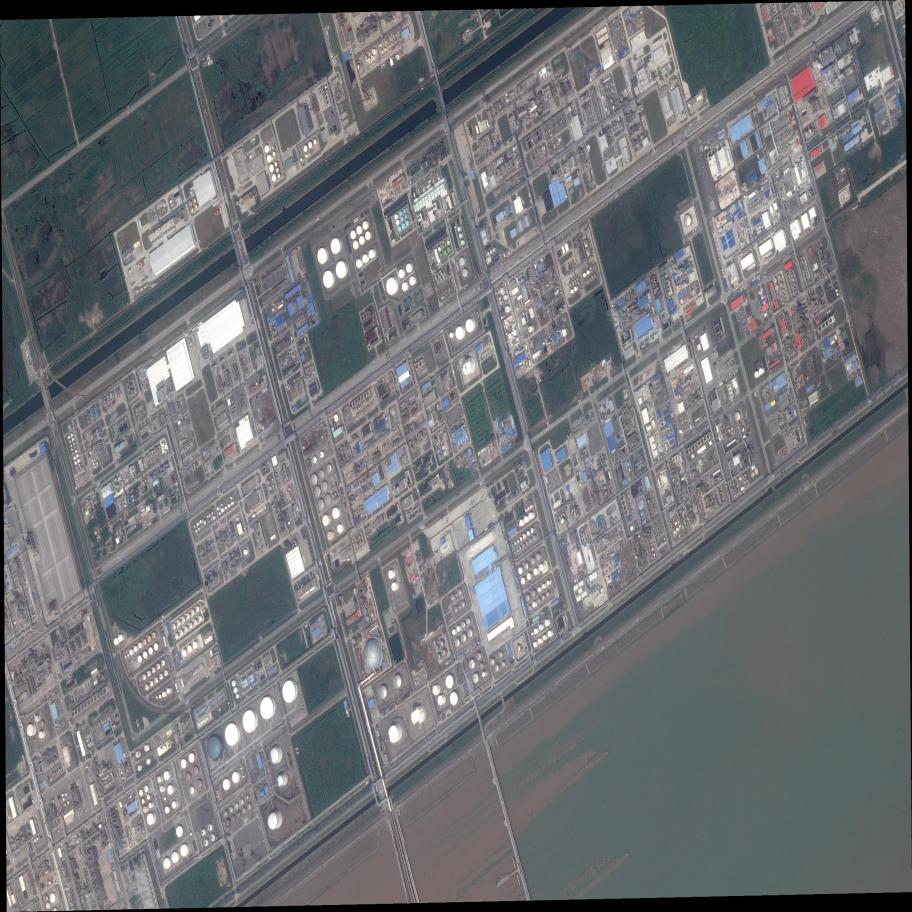storage-tank: (363, 639, 382, 671), (207, 736, 221, 760), (260, 697, 273, 720), (243, 710, 256, 733), (225, 723, 238, 746), (282, 681, 295, 703), (336, 261, 346, 279), (388, 726, 398, 744), (386, 278, 396, 295), (323, 271, 333, 288), (411, 708, 421, 725), (268, 814, 278, 830), (317, 248, 327, 264), (462, 360, 472, 376), (270, 748, 279, 765), (331, 238, 340, 254), (445, 675, 454, 689), (393, 675, 401, 689), (379, 686, 387, 700), (465, 319, 473, 333), (450, 692, 458, 706), (456, 326, 463, 340), (276, 776, 284, 788), (180, 845, 188, 857), (232, 772, 239, 784), (324, 494, 331, 506), (322, 515, 329, 527), (147, 814, 154, 826), (176, 826, 183, 838), (684, 215, 691, 227), (314, 486, 321, 497), (321, 481, 328, 492), (317, 499, 324, 510), (332, 508, 339, 519), (27, 725, 34, 736), (171, 852, 178, 863), (163, 858, 170, 869), (223, 779, 229, 791), (49, 893, 56, 903), (188, 753, 195, 763), (311, 474, 317, 485), (362, 254, 368, 264), (327, 531, 333, 541), (196, 780, 202, 790), (181, 759, 187, 769), (167, 785, 173, 795), (365, 231, 371, 241), (469, 659, 475, 669), (734, 412, 740, 422), (326, 464, 332, 473), (318, 470, 324, 479), (188, 786, 194, 795), (473, 674, 479, 683), (409, 277, 415, 286), (467, 629, 473, 638), (356, 226, 362, 235), (337, 524, 342, 534), (193, 766, 198, 776), (164, 771, 169, 781), (353, 240, 358, 250), (402, 282, 407, 292), (399, 269, 404, 279), (438, 695, 443, 705), (433, 686, 438, 696), (350, 231, 356, 239), (269, 164, 274, 173), (214, 573, 219, 582), (334, 414, 339, 423), (369, 250, 374, 259), (356, 259, 361, 268), (391, 583, 396, 592), (359, 236, 364, 245), (185, 773, 190, 782), (459, 257, 464, 266), (406, 264, 411, 273), (461, 634, 466, 643), (363, 221, 368, 230), (388, 571, 393, 579), (144, 785, 149, 793), (143, 651, 148, 659), (528, 512, 533, 520), (476, 653, 481, 661), (462, 269, 467, 277), (455, 639, 460, 647), (525, 595, 530, 603), (530, 558, 535, 566), (308, 142, 313, 149), (135, 751, 140, 758), (154, 644, 159, 651), (148, 648, 153, 655), (406, 298, 411, 305), (533, 568, 538, 575), (267, 155, 271, 163), (265, 145, 269, 153), (210, 576, 214, 584), (272, 174, 276, 182), (208, 824, 212, 832), (139, 789, 143, 797), (144, 744, 148, 752), (39, 731, 43, 739), (138, 655, 142, 663), (118, 634, 122, 642), (172, 801, 176, 809), (165, 806, 169, 814), (516, 645, 520, 653), (519, 519, 523, 527), (531, 590, 535, 598), (210, 835, 215, 841), (320, 451, 324, 458), (313, 456, 317, 463), (233, 687, 237, 694), (240, 798, 244, 805), (225, 820, 229, 827), (205, 580, 209, 587), (304, 145, 308, 152), (363, 608, 367, 615), (365, 615, 369, 622), (143, 806, 147, 813), (146, 758, 150, 765), (148, 802, 152, 809), (182, 650, 186, 657), (152, 632, 156, 639), (204, 839, 208, 846), (188, 646, 192, 653), (193, 642, 197, 649), (114, 638, 118, 645), (157, 776, 161, 783), (547, 631, 551, 638), (545, 619, 549, 626), (775, 285, 779, 292), (754, 371, 758, 378), (524, 516, 528, 523), (495, 665, 499, 672), (490, 659, 494, 666), (402, 301, 406, 308), (449, 332, 453, 339), (451, 594, 455, 601), (461, 601, 465, 608), (454, 606, 458, 613), (452, 629, 456, 636), (441, 650, 445, 657), (521, 578, 525, 585), (518, 568, 522, 575), (527, 573, 531, 580), (524, 563, 528, 570), (539, 564, 543, 571), (536, 554, 540, 561), (528, 326, 532, 333), (505, 306, 509, 313), (232, 681, 236, 687), (247, 804, 251, 810), (237, 811, 241, 817), (235, 803, 239, 809), (232, 815, 236, 821), (229, 807, 233, 813), (224, 811, 228, 817), (260, 543, 264, 549), (369, 605, 373, 611), (370, 611, 374, 617), (46, 903, 50, 909), (141, 798, 145, 804), (137, 765, 141, 771), (159, 674, 163, 680), (149, 681, 153, 687), (162, 692, 166, 698), (201, 830, 205, 836), (194, 204, 198, 210), (192, 198, 196, 204), (190, 208, 194, 214), (186, 613, 190, 619), (147, 636, 151, 642), (143, 639, 147, 645), (138, 643, 142, 649), (129, 650, 133, 656), (604, 491, 608, 497), (759, 369, 763, 375), (499, 652, 503, 658), (750, 472, 754, 478), (438, 454, 442, 460), (441, 445, 445, 451), (405, 220, 409, 226), (401, 223, 405, 229), (447, 247, 451, 253), (466, 618, 470, 624), (461, 622, 465, 628), (372, 49, 376, 55), (439, 641, 443, 647), (532, 602, 536, 608), (506, 97, 510, 103), (243, 807, 246, 814), (358, 591, 361, 598), (35, 715, 38, 722), (160, 786, 163, 793), (172, 624, 176, 629), (154, 678, 158, 683), (630, 526, 634, 531), (773, 278, 777, 283), (314, 139, 317, 145), (360, 598, 363, 604), (41, 721, 44, 727), (203, 520, 206, 526), (175, 633, 178, 639), (164, 670, 167, 676), (161, 660, 164, 666), (167, 688, 170, 694), (180, 630, 183, 636), (196, 606, 199, 612), (194, 619, 197, 625), (189, 623, 192, 629), (142, 674, 145, 680), (134, 646, 137, 652), (539, 625, 542, 631), (533, 642, 536, 648), (502, 661, 505, 667), (482, 672, 485, 678), (480, 663, 483, 669), (459, 589, 462, 595), (457, 226, 460, 232), (459, 233, 462, 239), (443, 250, 446, 256), (457, 626, 460, 632), (437, 653, 440, 659), (398, 226, 401, 232), (395, 214, 398, 220), (396, 54, 399, 60), (528, 605, 531, 611), (267, 480, 270, 485), (208, 23, 211, 28), (281, 466, 284, 471), (246, 795, 249, 800), (236, 694, 239, 699), (259, 538, 262, 543), (256, 524, 259, 529), (244, 550, 247, 555), (358, 515, 361, 520), (359, 540, 362, 545), (276, 168, 279, 173), (358, 535, 361, 540), (354, 537, 357, 542), (45, 896, 48, 901), (75, 709, 78, 714), (103, 688, 106, 693), (100, 691, 103, 696), (94, 695, 97, 700), (91, 698, 94, 703), (147, 795, 150, 800), (177, 620, 180, 625), (157, 664, 160, 669), (152, 668, 155, 673), (159, 694, 162, 699), (189, 201, 192, 206), (198, 616, 201, 621), (191, 610, 194, 615), (184, 627, 187, 632), (182, 617, 185, 622), (145, 685, 148, 690), (147, 671, 150, 676), (707, 434, 710, 439), (689, 447, 692, 452), (686, 449, 689, 454), (673, 530, 676, 535), (739, 477, 742, 482), (543, 635, 546, 640), (534, 629, 537, 634), (538, 639, 541, 644), (603, 486, 606, 491), (640, 135, 643, 140), (610, 99, 613, 104), (542, 595, 545, 600), (755, 470, 758, 475), (744, 473, 747, 478), (822, 323, 825, 328), (805, 131, 808, 136), (808, 129, 811, 134), (546, 592, 549, 597), (537, 598, 540, 603), (437, 448, 440, 453), (443, 451, 446, 456), (409, 440, 412, 445), (410, 446, 413, 451), (401, 217, 404, 222), (399, 211, 402, 216), (461, 240, 464, 245), (438, 247, 441, 252), (371, 56, 374, 61), (368, 58, 371, 63), (368, 52, 371, 57), (364, 55, 367, 60), (435, 645, 438, 650), (396, 220, 399, 225), (561, 519, 564, 524), (535, 112, 538, 117), (523, 534, 526, 539), (542, 584, 545, 589), (546, 580, 549, 585), (533, 536, 536, 541), (531, 528, 534, 533), (529, 538, 532, 543), (527, 531, 530, 536), (518, 280, 521, 285), (487, 252, 490, 257), (507, 162, 510, 167), (500, 168, 503, 173), (495, 171, 498, 176), (570, 289, 573, 294), (216, 210, 219, 214), (321, 435, 324, 439), (361, 316, 364, 320), (358, 397, 361, 401), (355, 399, 358, 403), (305, 154, 308, 158), (273, 152, 276, 156), (99, 824, 102, 828), (97, 694, 100, 698), (87, 701, 90, 705), (81, 705, 84, 709), (78, 708, 81, 712), (74, 461, 77, 465), (77, 459, 80, 463), (61, 793, 64, 797), (36, 837, 39, 841), (122, 842, 125, 846), (196, 522, 199, 526), (169, 200, 172, 204), (163, 746, 166, 750), (127, 385, 130, 389), (698, 441, 701, 445), (695, 443, 698, 447), (692, 445, 695, 449), (647, 500, 650, 504), (625, 511, 628, 515), (622, 501, 625, 505), (621, 496, 624, 500), (819, 326, 822, 330), (48, 881, 51, 885), (743, 481, 746, 485), (419, 362, 422, 366), (411, 396, 414, 400), (403, 209, 406, 213), (379, 43, 382, 47), (504, 295, 506, 301), (490, 250, 493, 254), (583, 273, 586, 277), (574, 287, 577, 291), (269, 486, 271, 491), (221, 508, 223, 513), (258, 531, 260, 536), (300, 157, 302, 162), (275, 162, 277, 167), (129, 390, 131, 395), (612, 105, 614, 110), (782, 288, 784, 293), (826, 321, 828, 326), (742, 428, 744, 433), (520, 537, 522, 542), (523, 543, 525, 548), (538, 587, 540, 592), (521, 278, 523, 283), (504, 165, 506, 170), (587, 270, 589, 275), (560, 119, 562, 124), (366, 313, 369, 316), (793, 283, 796, 286), (514, 542, 517, 545), (555, 123, 558, 126), (214, 211, 216, 215), (271, 479, 273, 483), (307, 459, 309, 463), (284, 475, 286, 479), (283, 471, 285, 475), (308, 370, 310, 374), (213, 516, 215, 520), (228, 504, 230, 508), (225, 506, 227, 510), (217, 507, 219, 511), (211, 511, 213, 515), (209, 513, 211, 517), (340, 487, 342, 491), (335, 496, 337, 500), (334, 492, 336, 496), (333, 498, 335, 502), (332, 494, 334, 498), (364, 314, 366, 318), (367, 391, 369, 395), (364, 393, 366, 397), (361, 395, 363, 399), (353, 401, 355, 405), (397, 434, 399, 438), (395, 435, 397, 439), (356, 517, 358, 521), (308, 152, 310, 156), (278, 174, 280, 178), (356, 543, 358, 547), (127, 529, 129, 533), (116, 485, 118, 489), (96, 461, 98, 465), (57, 655, 59, 659), (122, 776, 124, 780), (85, 703, 87, 707), (76, 454, 78, 458), (73, 442, 75, 446), (34, 839, 36, 843), (198, 527, 200, 531), (160, 748, 162, 752), (108, 395, 110, 399), (102, 400, 104, 404), (127, 653, 129, 657), (125, 655, 127, 659), (138, 407, 140, 411), (164, 797, 166, 801), (704, 437, 706, 441), (701, 439, 703, 443), (676, 456, 678, 460), (673, 458, 675, 462), (671, 524, 673, 528), (676, 528, 678, 532), (675, 522, 677, 526), (653, 553, 655, 557), (665, 274, 667, 278), (682, 425, 684, 429), (652, 547, 654, 551), (526, 365, 528, 369), (531, 632, 533, 636), (583, 538, 585, 542), (624, 506, 626, 510), (602, 481, 604, 485), (742, 475, 744, 479), (795, 290, 797, 294), (792, 278, 794, 282), (791, 273, 793, 277), (780, 283, 782, 287), (778, 276, 780, 280), (830, 318, 832, 322), (794, 12, 796, 16), (793, 7, 795, 11), (768, 4, 770, 8), (728, 429, 730, 433), (746, 479, 748, 483), (416, 365, 418, 369), (409, 397, 411, 401), (401, 403, 403, 407), (447, 241, 449, 245), (442, 245, 444, 249), (440, 253, 442, 257), (391, 42, 393, 46), (389, 44, 391, 48), (387, 38, 389, 42), (384, 48, 386, 52), (381, 50, 383, 54), (357, 65, 359, 69), (394, 40, 396, 44), (405, 214, 407, 218), (512, 544, 514, 548), (562, 512, 564, 516), (594, 274, 596, 278), (519, 547, 521, 551), (526, 541, 528, 545), (585, 280, 587, 284), (533, 287, 535, 291), (517, 302, 519, 306), (493, 248, 495, 252), (527, 114, 529, 118), (528, 118, 530, 122), (499, 104, 501, 108), (545, 131, 547, 135), (577, 281, 579, 285), (574, 279, 576, 283), (572, 281, 574, 285), (569, 283, 571, 287), (548, 129, 550, 133), (553, 144, 555, 148), (556, 142, 558, 146), (558, 138, 560, 142), (551, 126, 553, 130), (203, 351, 205, 354), (202, 348, 204, 351), (205, 350, 207, 353), (204, 347, 206, 350), (234, 407, 236, 410), (272, 485, 274, 488), (231, 405, 233, 408), (232, 409, 234, 412), (233, 412, 235, 415), (240, 767, 242, 770), (242, 775, 244, 778), (231, 502, 233, 505), (230, 497, 232, 500), (341, 491, 343, 494), (341, 495, 343, 498), (356, 495, 358, 498), (393, 437, 395, 440), (350, 404, 352, 407), (361, 514, 363, 517), (272, 147, 274, 150), (133, 526, 135, 529), (114, 479, 116, 482), (94, 466, 96, 469), (92, 459, 94, 462), (87, 743, 89, 746), (72, 713, 74, 716), (76, 466, 78, 469), (73, 457, 75, 460), (72, 452, 74, 455), (75, 450, 77, 453), (71, 448, 73, 451), (74, 446, 76, 449), (70, 444, 72, 447), (72, 438, 74, 441), (69, 440, 71, 443), (71, 434, 73, 437), (64, 803, 66, 806), (67, 801, 69, 804), (63, 798, 65, 801), (65, 793, 67, 796), (58, 769, 60, 772), (54, 772, 56, 775), (52, 773, 54, 776), (156, 696, 158, 699), (195, 530, 197, 533), (194, 525, 196, 528), (187, 470, 189, 473), (167, 742, 169, 745), (105, 398, 107, 401), (136, 409, 138, 412), (142, 481, 144, 484), (684, 414, 686, 417), (680, 417, 682, 420), (666, 498, 668, 501), (681, 422, 683, 425), (683, 420, 685, 423), (654, 281, 656, 284), (665, 280, 667, 283), (666, 284, 668, 287), (668, 292, 670, 295), (687, 427, 689, 430), (684, 424, 686, 427), (686, 423, 688, 426), (650, 552, 652, 555), (635, 556, 637, 559), (587, 108, 589, 111), (552, 313, 554, 316), (550, 307, 552, 310), (544, 332, 546, 335), (542, 333, 544, 336), (588, 112, 590, 115), (589, 118, 591, 121), (582, 535, 584, 538), (591, 117, 593, 120), (589, 107, 591, 110), (721, 497, 723, 500), (791, 286, 793, 289), (792, 289, 794, 292), (835, 289, 837, 292), (828, 310, 830, 313), (791, 12, 793, 15), (774, 11, 776, 14), (403, 402, 405, 405), (445, 243, 447, 246), (392, 34, 394, 37), (389, 37, 391, 40), (387, 46, 389, 49), (397, 39, 399, 42), (397, 31, 399, 34), (401, 53, 403, 56), (399, 37, 401, 40), (406, 208, 408, 211), (517, 540, 519, 543), (517, 549, 519, 552), (514, 551, 516, 554), (560, 515, 562, 518), (525, 509, 527, 512), (530, 505, 532, 508), (566, 274, 568, 277), (592, 276, 594, 279), (587, 279, 589, 282), (590, 256, 592, 259), (515, 304, 517, 307), (498, 290, 500, 293), (576, 278, 578, 281), (549, 134, 551, 137), (68, 436, 70, 439), (204, 355, 206, 357), (233, 404, 235, 406), (297, 322, 299, 324), (295, 321, 297, 323), (208, 521, 210, 523), (357, 507, 359, 509), (310, 152, 312, 154), (16, 565, 18, 567), (13, 561, 15, 563), (200, 520, 201, 524), (168, 746, 170, 748), (145, 479, 146, 483), (668, 497, 670, 499), (682, 416, 684, 418), (653, 276, 655, 278), (653, 279, 655, 281), (685, 419, 687, 421), (551, 311, 553, 313), (589, 115, 591, 117), (592, 121, 594, 123), (773, 3, 774, 7), (777, 19, 779, 21), (740, 426, 742, 428), (780, 119, 782, 121), (780, 137, 782, 139), (588, 258, 590, 260), (552, 141, 554, 143), (206, 353, 207, 356), (306, 369, 307, 372), (300, 317, 301, 320), (298, 318, 299, 321), (307, 372, 308, 375), (233, 401, 234, 404), (221, 504, 222, 507), (219, 512, 220, 515), (354, 487, 355, 490), (355, 496, 356, 499), (311, 369, 312, 372), (310, 366, 311, 369), (312, 151, 313, 154), (207, 515, 208, 518), (90, 742, 91, 745), (87, 739, 88, 742), (132, 527, 133, 530), (130, 528, 131, 531), (126, 531, 127, 534), (90, 451, 91, 454), (53, 693, 54, 696), (121, 771, 122, 774), (15, 560, 16, 563), (79, 464, 80, 467), (56, 770, 57, 773), (720, 492, 721, 495), (719, 489, 720, 492), (668, 287, 669, 290), (651, 557, 652, 560), (525, 361, 526, 364), (543, 342, 544, 345), (591, 122, 592, 125), (591, 113, 592, 116), (590, 110, 591, 113), (795, 287, 796, 290), (784, 295, 785, 298), (837, 293, 838, 296), (827, 311, 828, 314), (774, 7, 775, 10), (740, 423, 741, 426), (385, 40, 386, 43), (383, 42, 384, 45), (528, 507, 529, 510), (565, 275, 566, 278), (590, 245, 591, 248), (590, 278, 591, 281), (520, 301, 521, 304), (236, 411, 237, 413), (301, 316, 302, 318), (299, 321, 300, 323), (297, 320, 298, 322), (296, 323, 297, 325), (308, 368, 309, 370), (211, 519, 212, 521), (300, 320, 301, 322), (302, 319, 303, 321), (358, 495, 359, 497), (359, 506, 360, 508), (361, 508, 362, 510), (360, 510, 361, 512), (364, 512, 365, 514), (272, 144, 273, 146), (93, 463, 94, 465), (39, 841, 40, 843), (40, 840, 41, 842), (36, 846, 37, 848), (38, 845, 39, 847), (16, 563, 17, 565), (80, 467, 81, 469), (17, 568, 18, 570), (14, 564, 15, 566), (39, 844, 40, 846), (15, 569, 16, 571), (15, 566, 16, 568), (721, 495, 722, 497), (656, 288, 657, 290), (655, 285, 656, 287), (686, 429, 687, 431), (541, 335, 542, 337), (793, 293, 794, 295), (785, 299, 786, 301), (786, 150, 787, 152), (758, 204, 759, 206), (757, 200, 758, 202), (756, 205, 757, 207), (755, 201, 756, 203), (755, 206, 756, 208), (791, 9, 792, 11), (788, 131, 789, 133), (779, 120, 780, 122), (752, 208, 753, 210), (751, 204, 752, 206), (750, 206, 751, 208), (778, 121, 779, 123), (785, 133, 786, 135), (782, 149, 783, 151), (784, 148, 785, 150), (785, 147, 786, 149), (788, 145, 789, 147), (782, 136, 783, 138), (784, 134, 785, 136), (395, 33, 396, 35), (559, 517, 560, 519), (589, 243, 590, 245), (590, 267, 591, 269), (358, 511, 359, 512), (363, 514, 364, 515), (37, 846, 38, 847), (789, 149, 790, 150), (787, 133, 788, 134), (754, 203, 755, 204), (753, 208, 754, 209), (751, 210, 752, 211), (783, 135, 784, 136), (363, 508, 363, 510), (41, 843, 41, 845), (785, 151, 785, 153), (753, 204, 753, 206)
